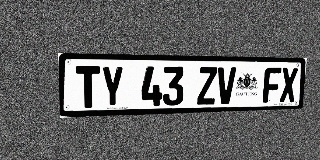3: (163, 67, 184, 106)
4: (141, 66, 163, 106)
F: (263, 67, 281, 103)
T: (76, 66, 100, 108)
V: (216, 67, 236, 104)
X: (279, 68, 298, 102)
Y: (101, 66, 124, 108)
Z: (197, 67, 217, 105)
